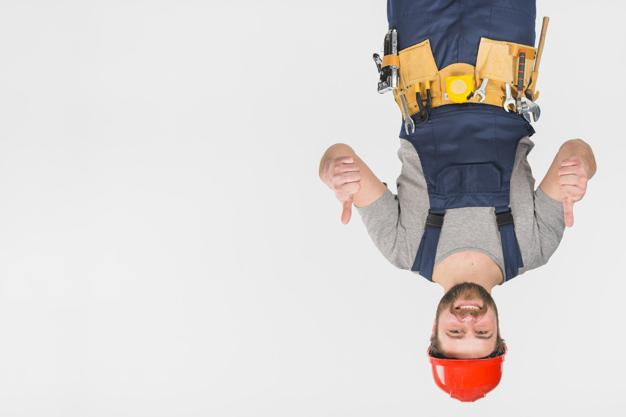thumbsdown: (557, 157, 587, 228), (332, 156, 362, 225)
